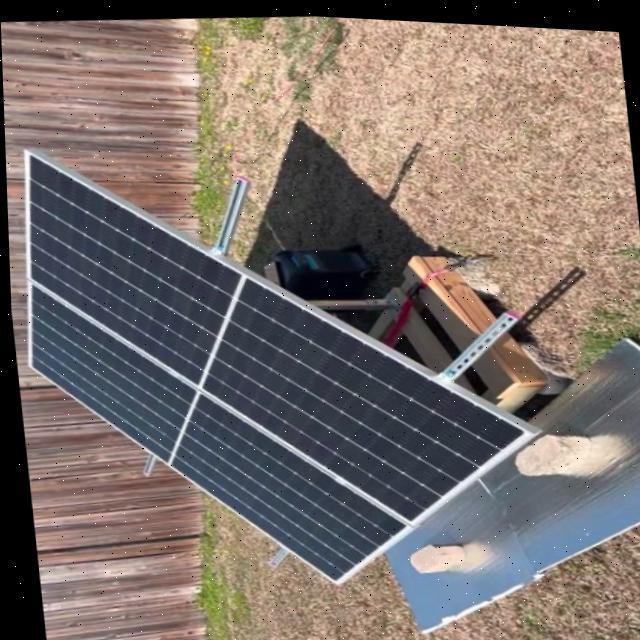Normal Solar Panel: (4, 115, 542, 607)
